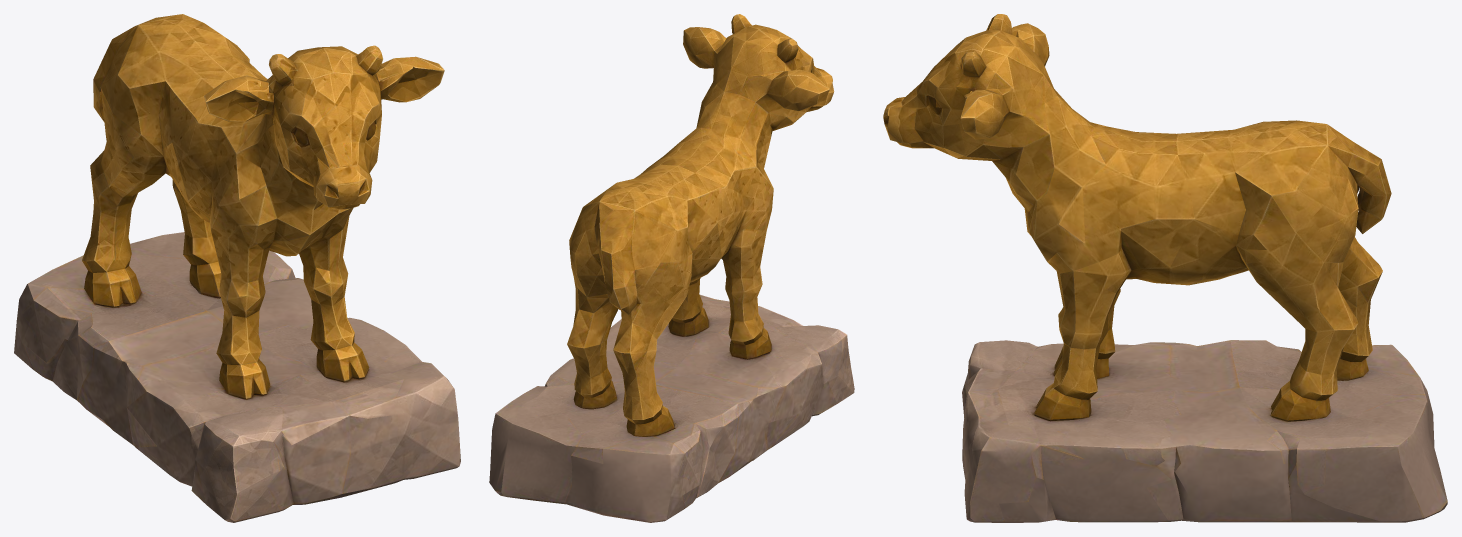
File: golden-calf.glb
3 views of the same model, side by side, from view 1: azimuth 30°, elevation 25°; view 2: azimuth 150°, elevation 25°; view 3: azimuth 270°, elevation 25° (orthographic). The views are drawn at different scales.
Bounding box in the file's own units: 0.9092 × 1.6 × 1.9.
1 material, 1 textured.
